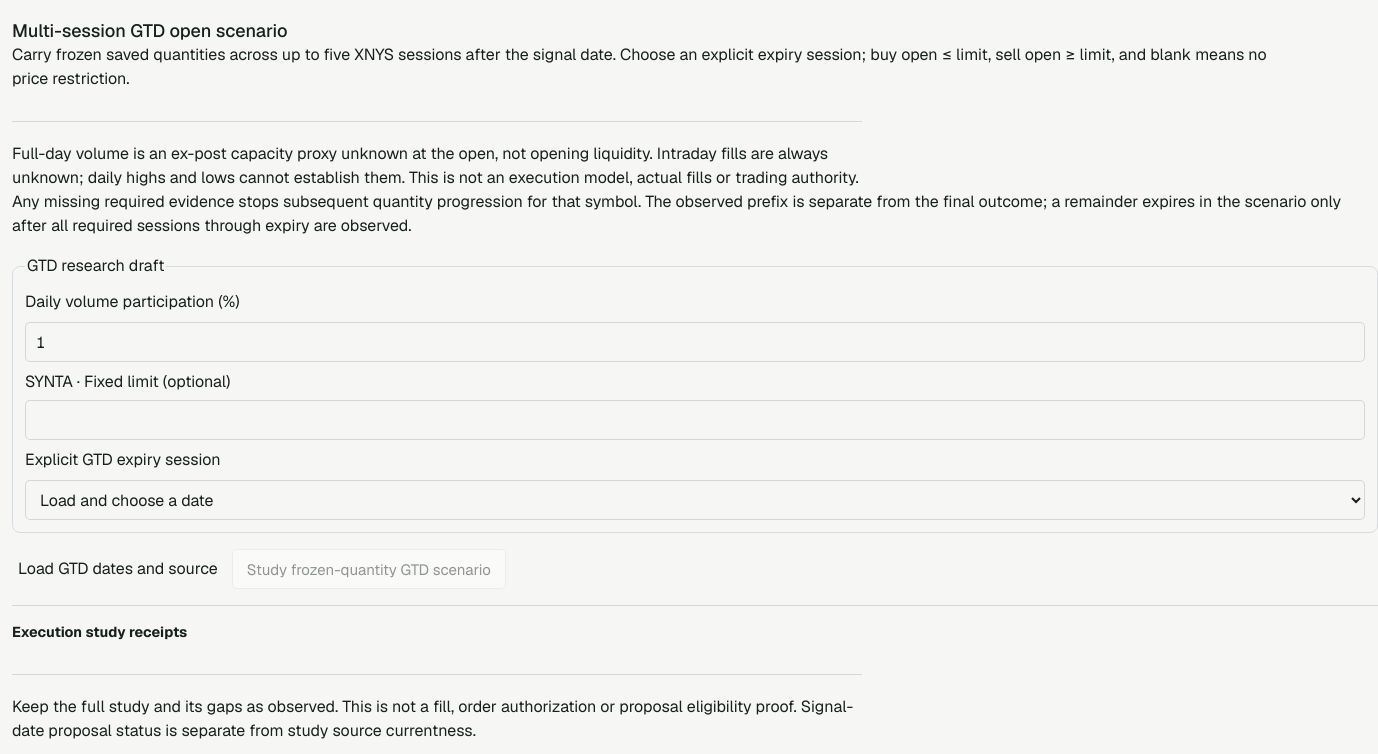
Test case: multi-session GTD research › requires explicit context load and an exact date before POST, preserving frozen quantities
Expected: the button "Study frozen-quantity GTD scenario" is disabled, [232,549,506,589]
Expected: the text "not an execution model, actual fills or trading authority" is shown, [12,143,859,188]
Click the button "Load GTD dates and source" at (118, 569), box [12,556,224,582]
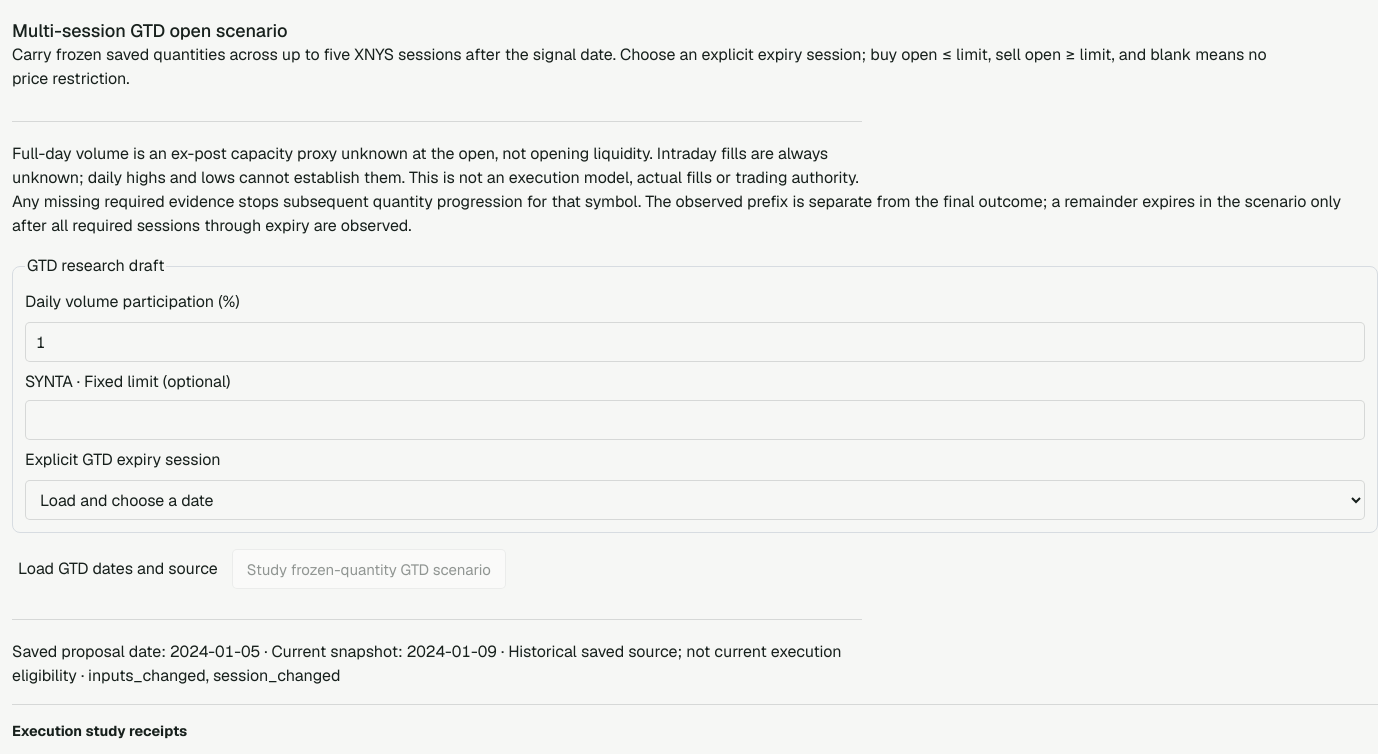
Expected: the button "Study frozen-quantity GTD scenario" is disabled, [232,549,506,589]
Now the text "Historical saved source" is shown, box [12,641,842,686]
Select "2024-01-12 · Not completed" in the dropdown labelled "Explicit GTD expiry session" at (695, 500), box [25,480,1365,520]
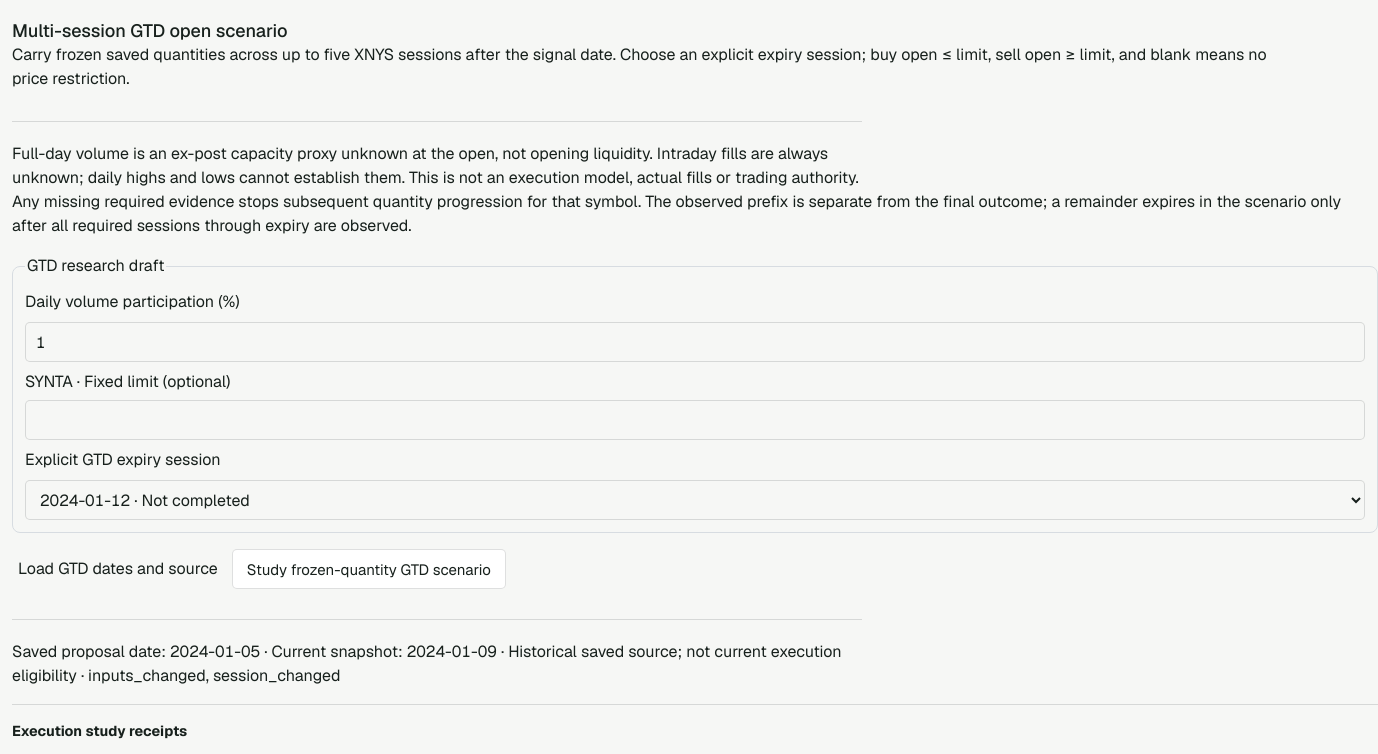
Click the button "Study frozen-quantity GTD scenario" at (369, 569), box [232,549,506,589]
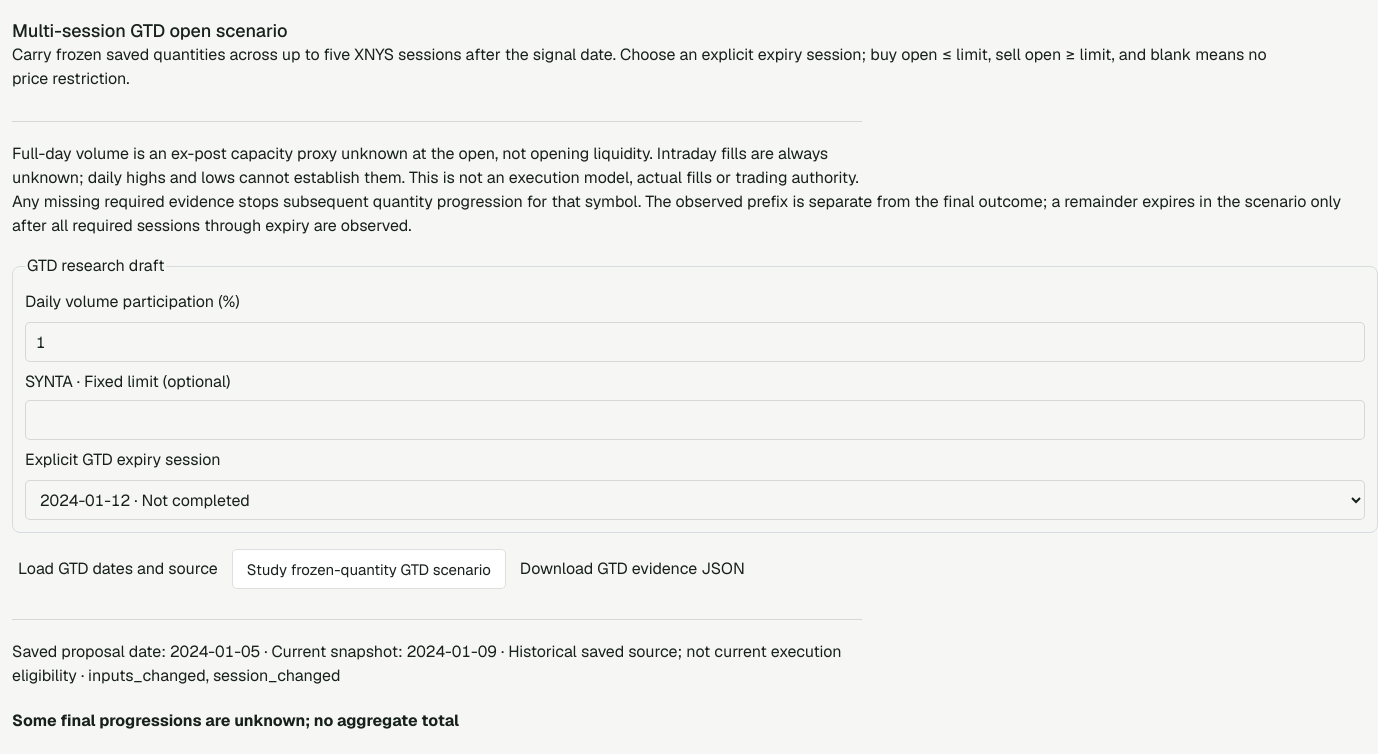
Now the button "Download GTD evidence JSON" is shown, box [514,556,751,582]
